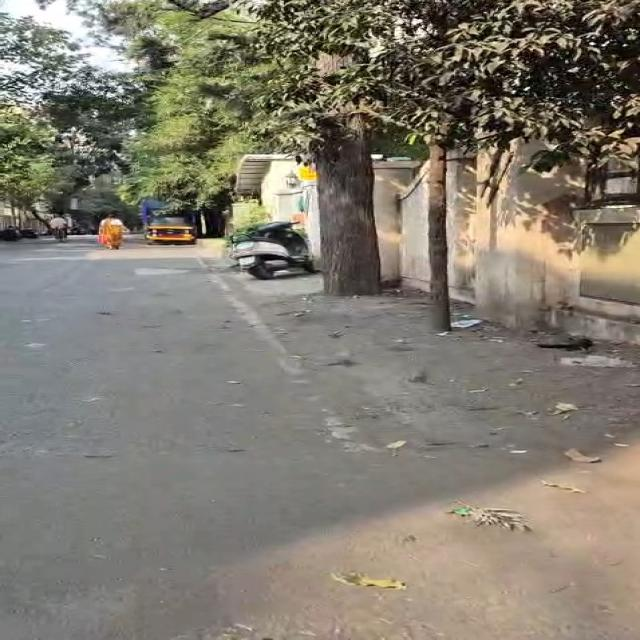bike: (231, 222, 315, 280), (100, 214, 124, 249), (50, 215, 68, 240)
